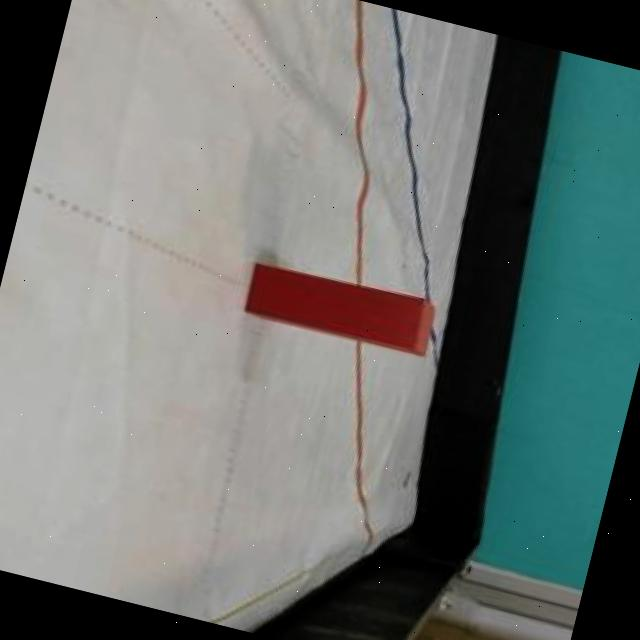redbox: (240, 260, 440, 362)
